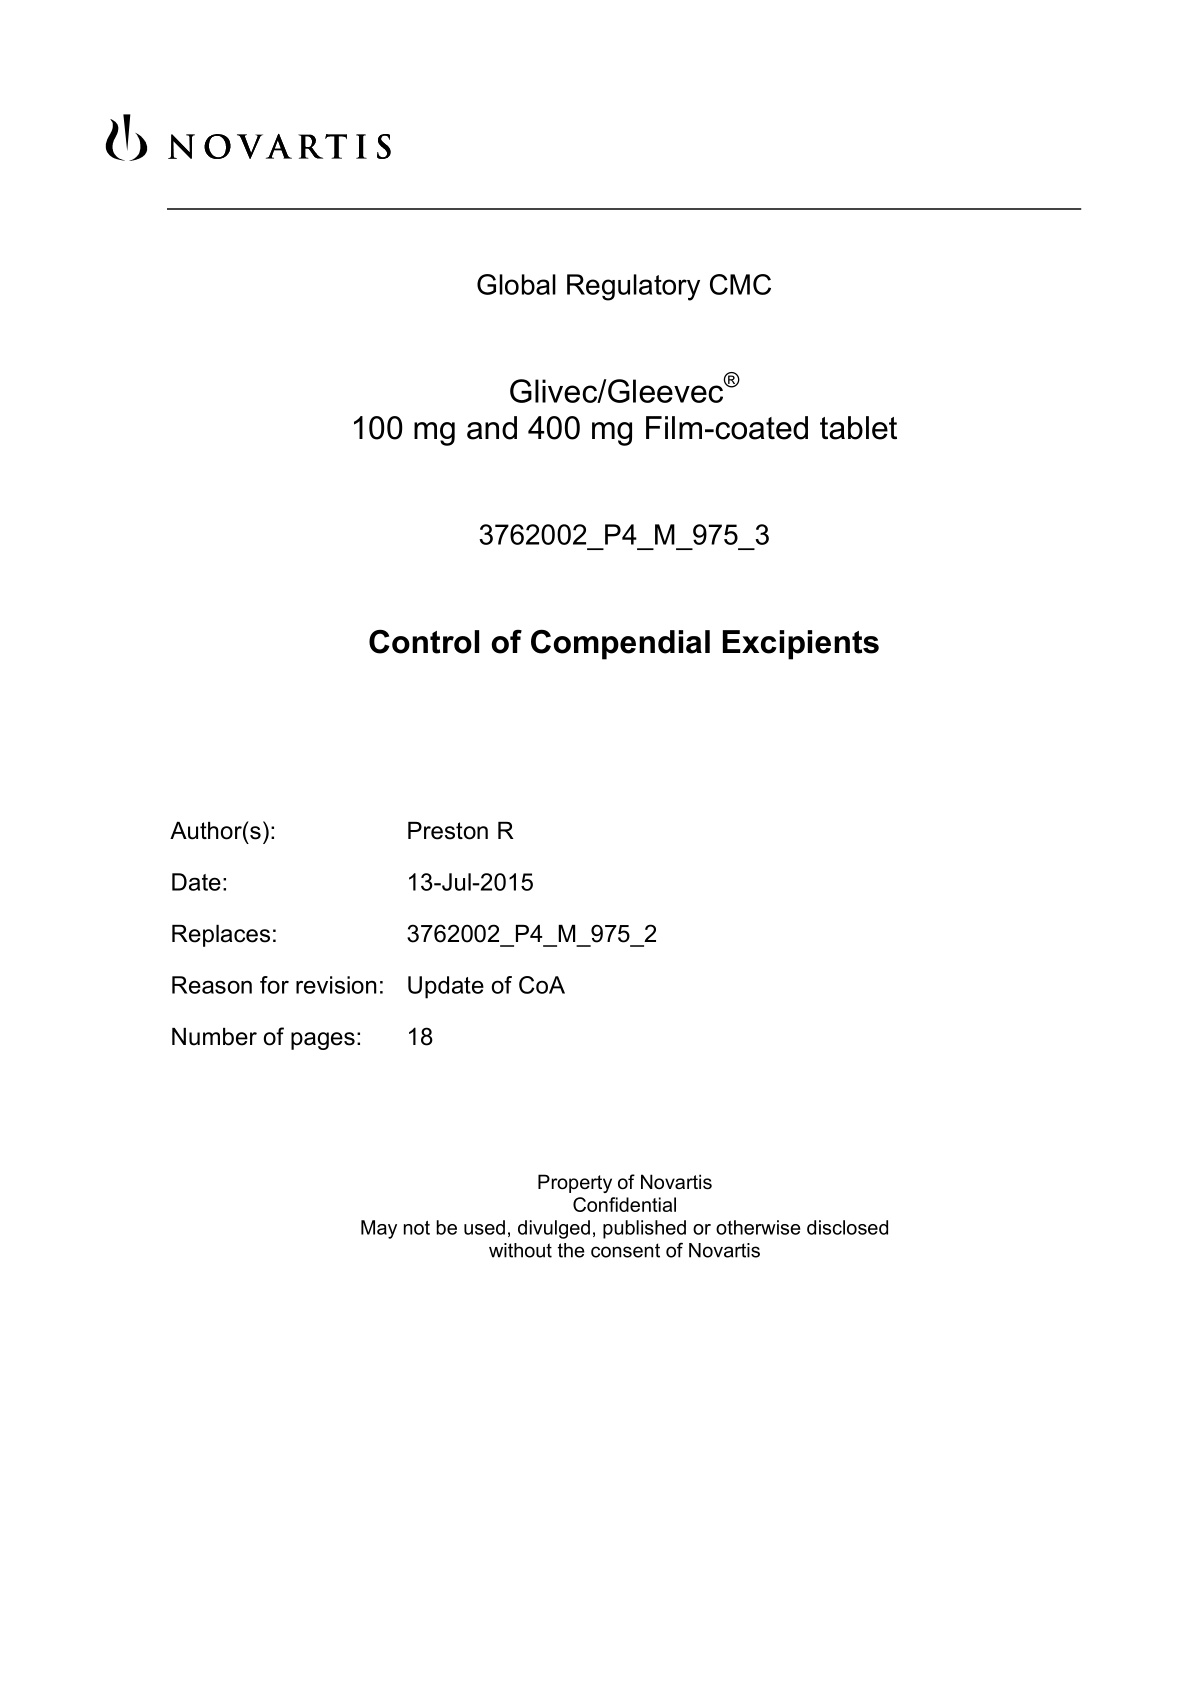nolines: (170, 817, 661, 1053)
